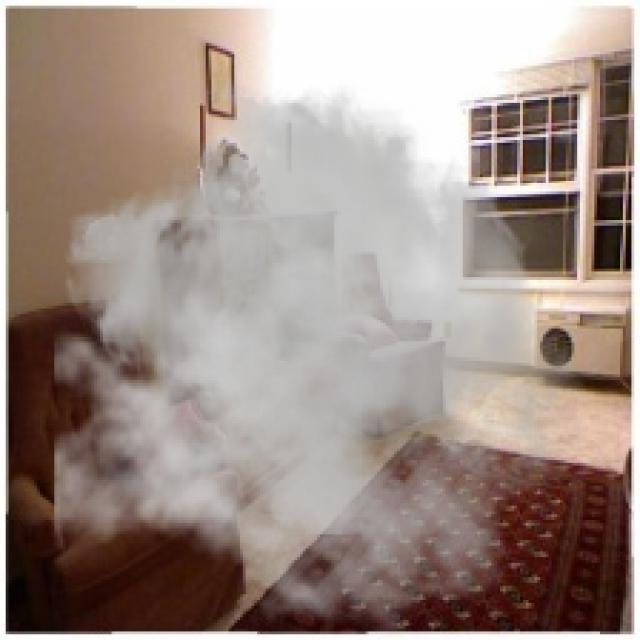Smoke: (54, 74, 589, 637)
